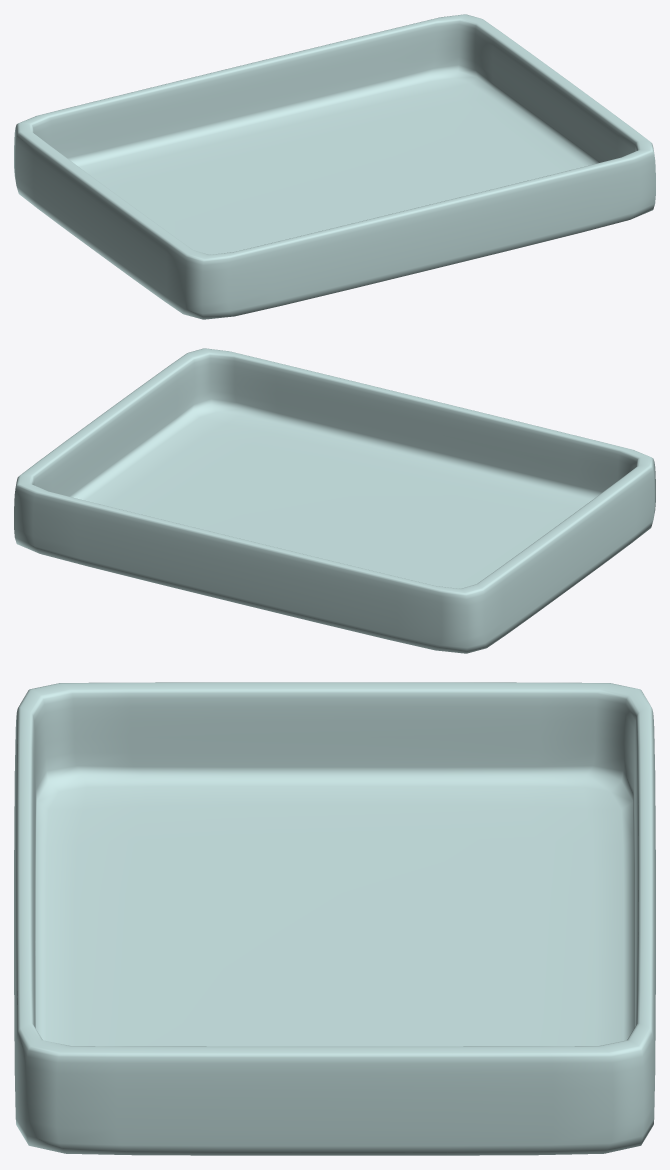
File: LiquidTray.fbx
3 renders of one model, top to bottom at view 1: azimuth 30°, elevation 25°; view 2: azimuth 150°, elevation 25°; view 3: azimuth 270°, elevation 25°, orthographic. The views are drawn at different scales.
Parts seen in each view (by area): view 1: pCube1; view 2: pCube1; view 3: pCube1.
Boxes of the visible parts, x1,y1,x2,y2 form: pCube1: [14, 14, 655, 319]; pCube1: [14, 348, 655, 653]; pCube1: [14, 682, 655, 1155].
Bounding box in the file's own units: 4.9 × 0.6619 × 3.53.
